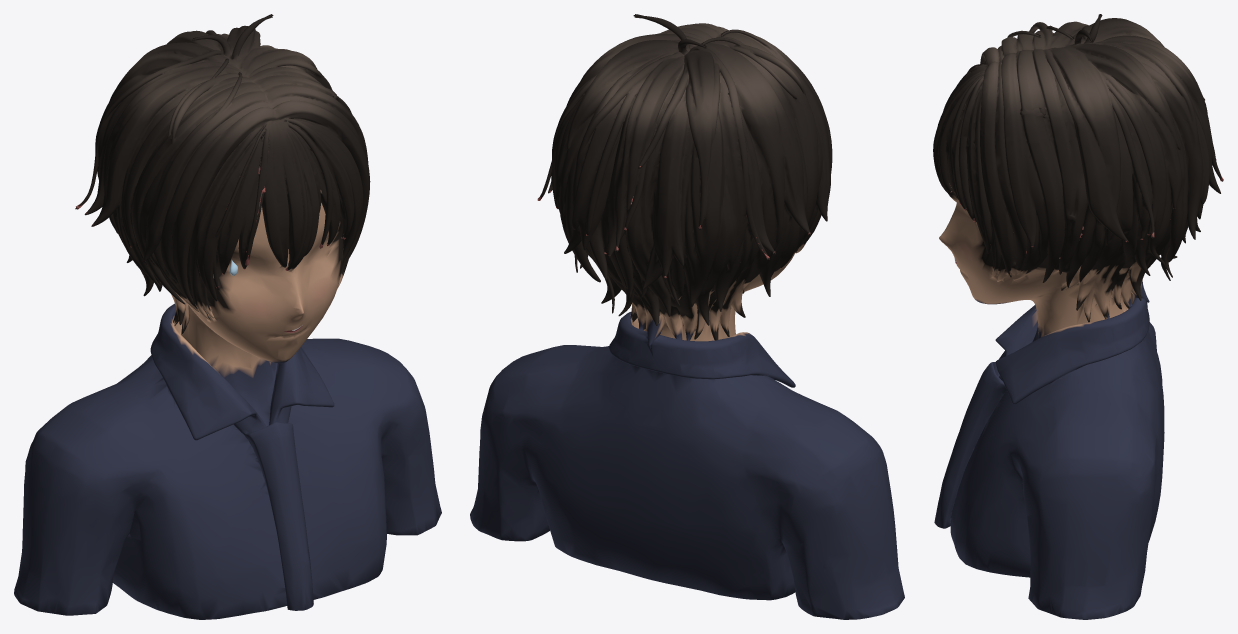
File: head.glb
3 views of the same model, side by side, from view 1: azimuth 30°, elevation 25°; view 2: azimuth 150°, elevation 25°; view 3: azimuth 270°, elevation 25° (orthographic). The views are drawn at different scales.
Parts seen in each view (by area): view 1: Bust, Lid; view 2: Bust, Lid; view 3: Bust, Lid.
Boxes of the visible parts, x1=… form: Bust: x1=14, y1=89, x2=441, y2=619; Lid: x1=107, y1=14, x2=355, y2=169; Bust: x1=470, y1=89, x2=904, y2=619; Lid: x1=564, y1=14, x2=817, y2=161; Bust: x1=933, y1=86, x2=1223, y2=619; Lid: x1=952, y1=14, x2=1202, y2=147.
Bounding box in the file's own units: 4.5 × 5.45 × 2.84.
